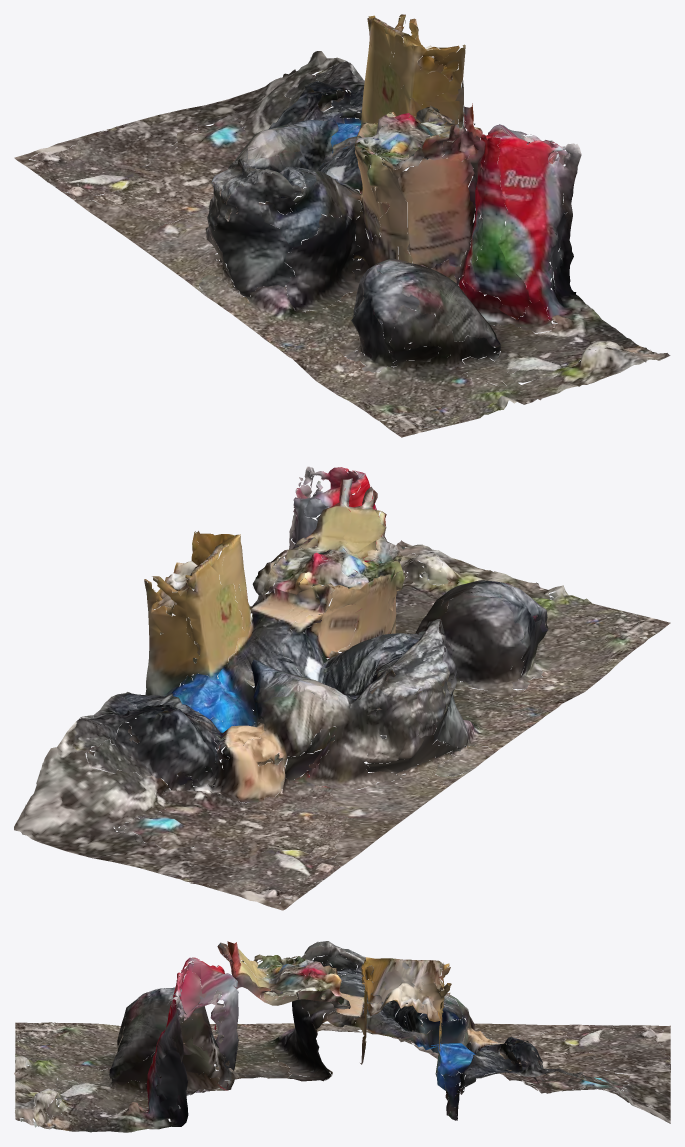
The model's file is trash-pile.glb.
3 renders of one model, top to bottom at view 1: azimuth 30°, elevation 25°; view 2: azimuth 150°, elevation 25°; view 3: azimuth 270°, elevation 25°, orthographic. The views are drawn at different scales.
Visible parts, largest first — view 1: Object_4; view 2: Object_4; view 3: Object_4.
Boxes of the visible parts, x1=… form: Object_4: x1=14, y1=14, x2=670, y2=437; Object_4: x1=14, y1=466, x2=670, y2=910; Object_4: x1=14, y1=941, x2=670, y2=1132.
Size of the model in its own units: 1.25 by 0.8725 by 3.1.
1 material, 1 textured.
